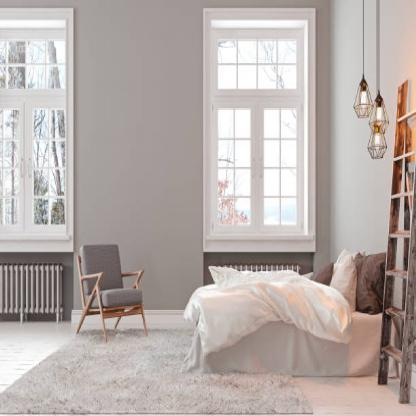Window: (202, 7, 310, 237), (1, 8, 74, 253)
